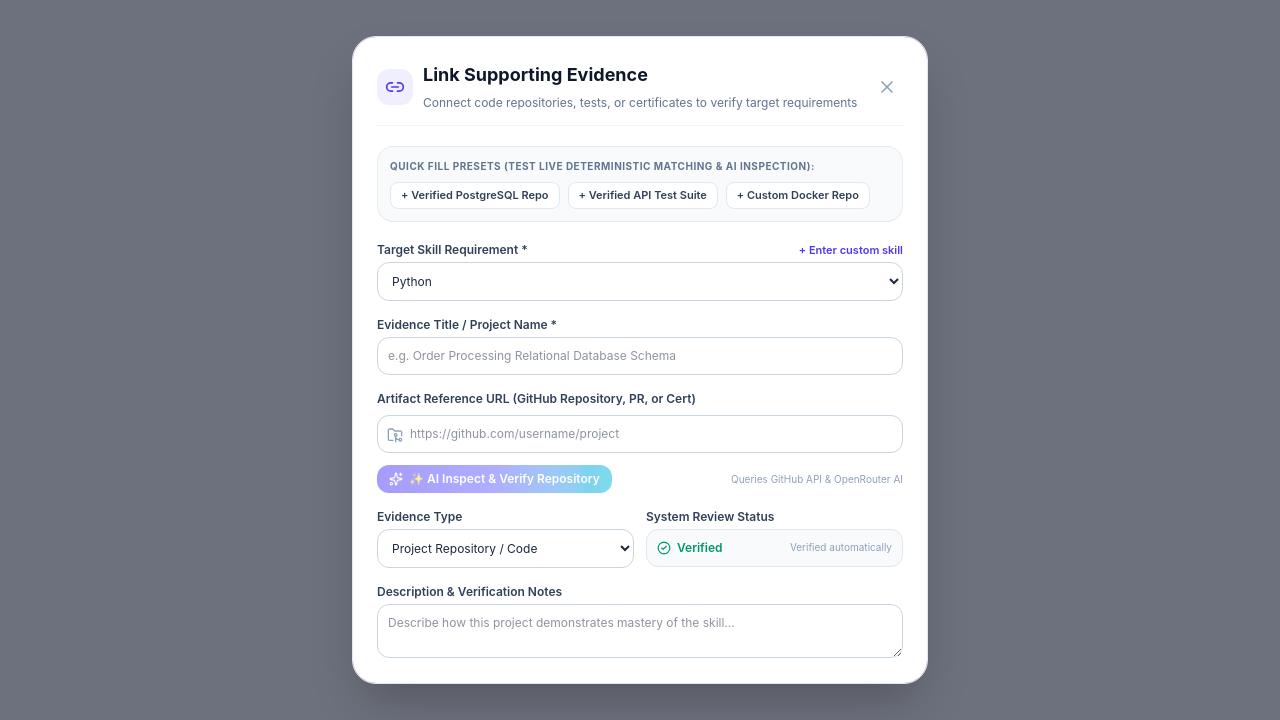
Test: LinkEvidenceModal Custom Skill Support › toggles to custom skill input when clicking "+ Enter custom skill" button
Click the button "+ Enter custom skill" at (851, 250), box [799,242,903,258]
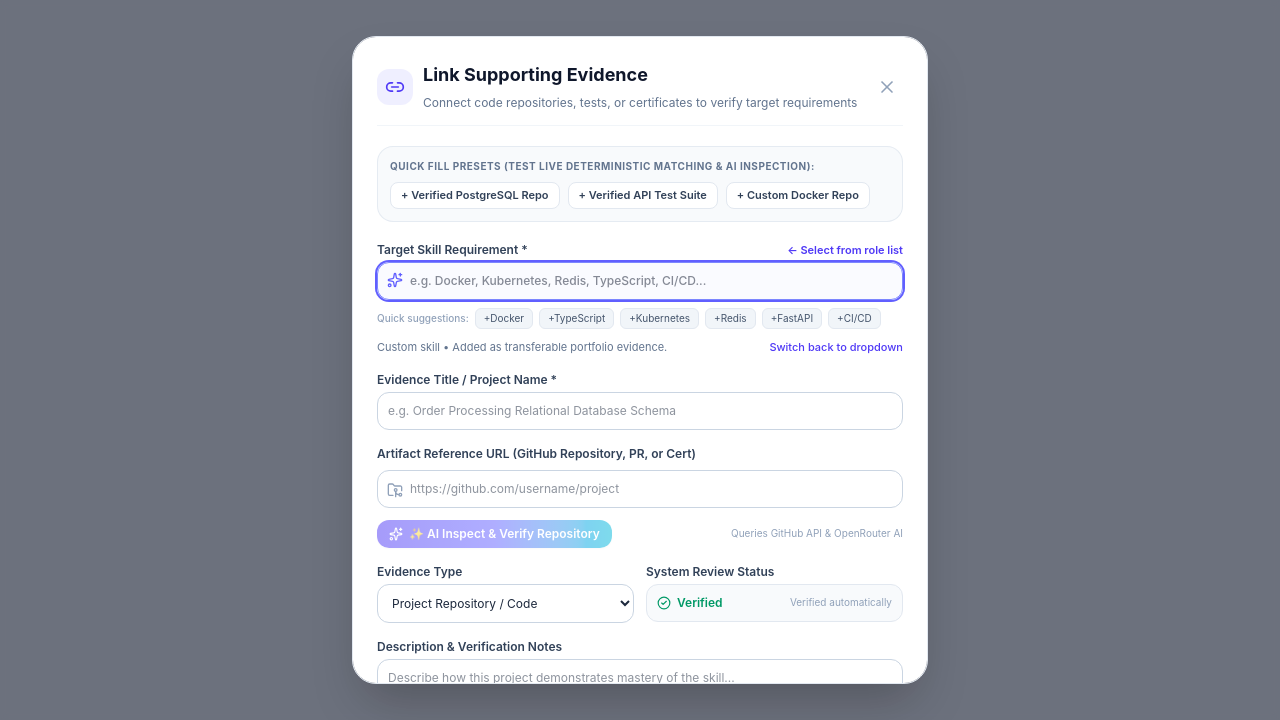
Check: the field with placeholder "e.g. Docker, Kubernetes, Redis, TypeScript, CI/CD..." is shown, box [377,262,903,300]
Check: the button "← Select from role list" is shown, box [787,242,903,258]
